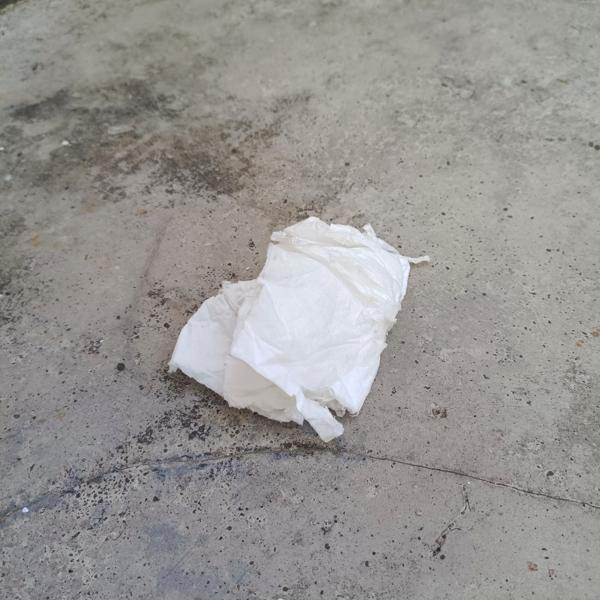Organik: (152, 182, 428, 455)
